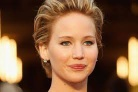female: (35, 3, 105, 83)
